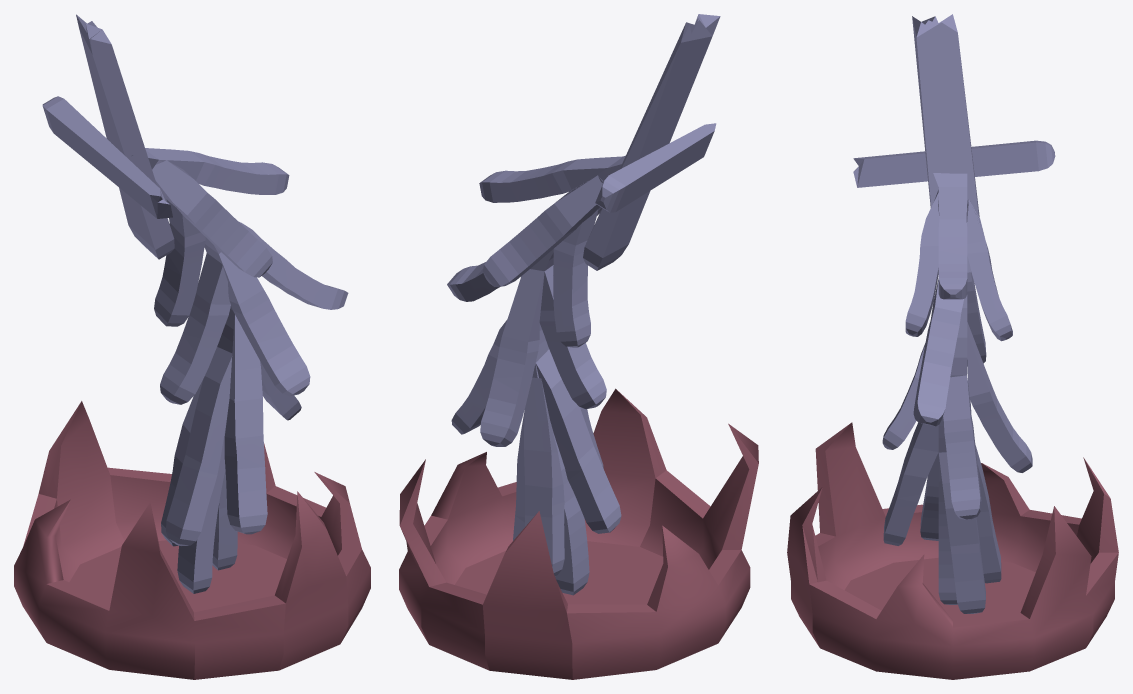
Rendered from REI_TALHER.fbx.
3 renders of one model, left to right at view 1: azimuth 30°, elevation 25°; view 2: azimuth 150°, elevation 25°; view 3: azimuth 270°, elevation 25°, orthographic. The views are drawn at different scales.
Parts seen in each view (by area): view 1: Rei; view 2: Rei; view 3: Rei.
Boxes of the visible parts, <box> form: Rei: <box>14,14,370,679</box>; Rei: <box>399,14,758,679</box>; Rei: <box>787,14,1118,679</box>.
Size of the model in its own units: 5.4 by 10.47 by 5.7.
